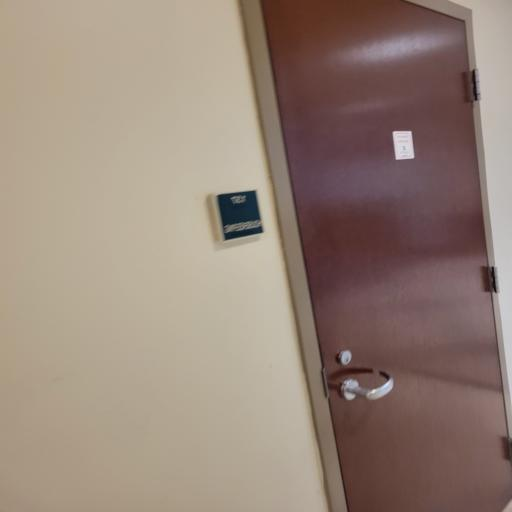door: (300, 0, 483, 498)
